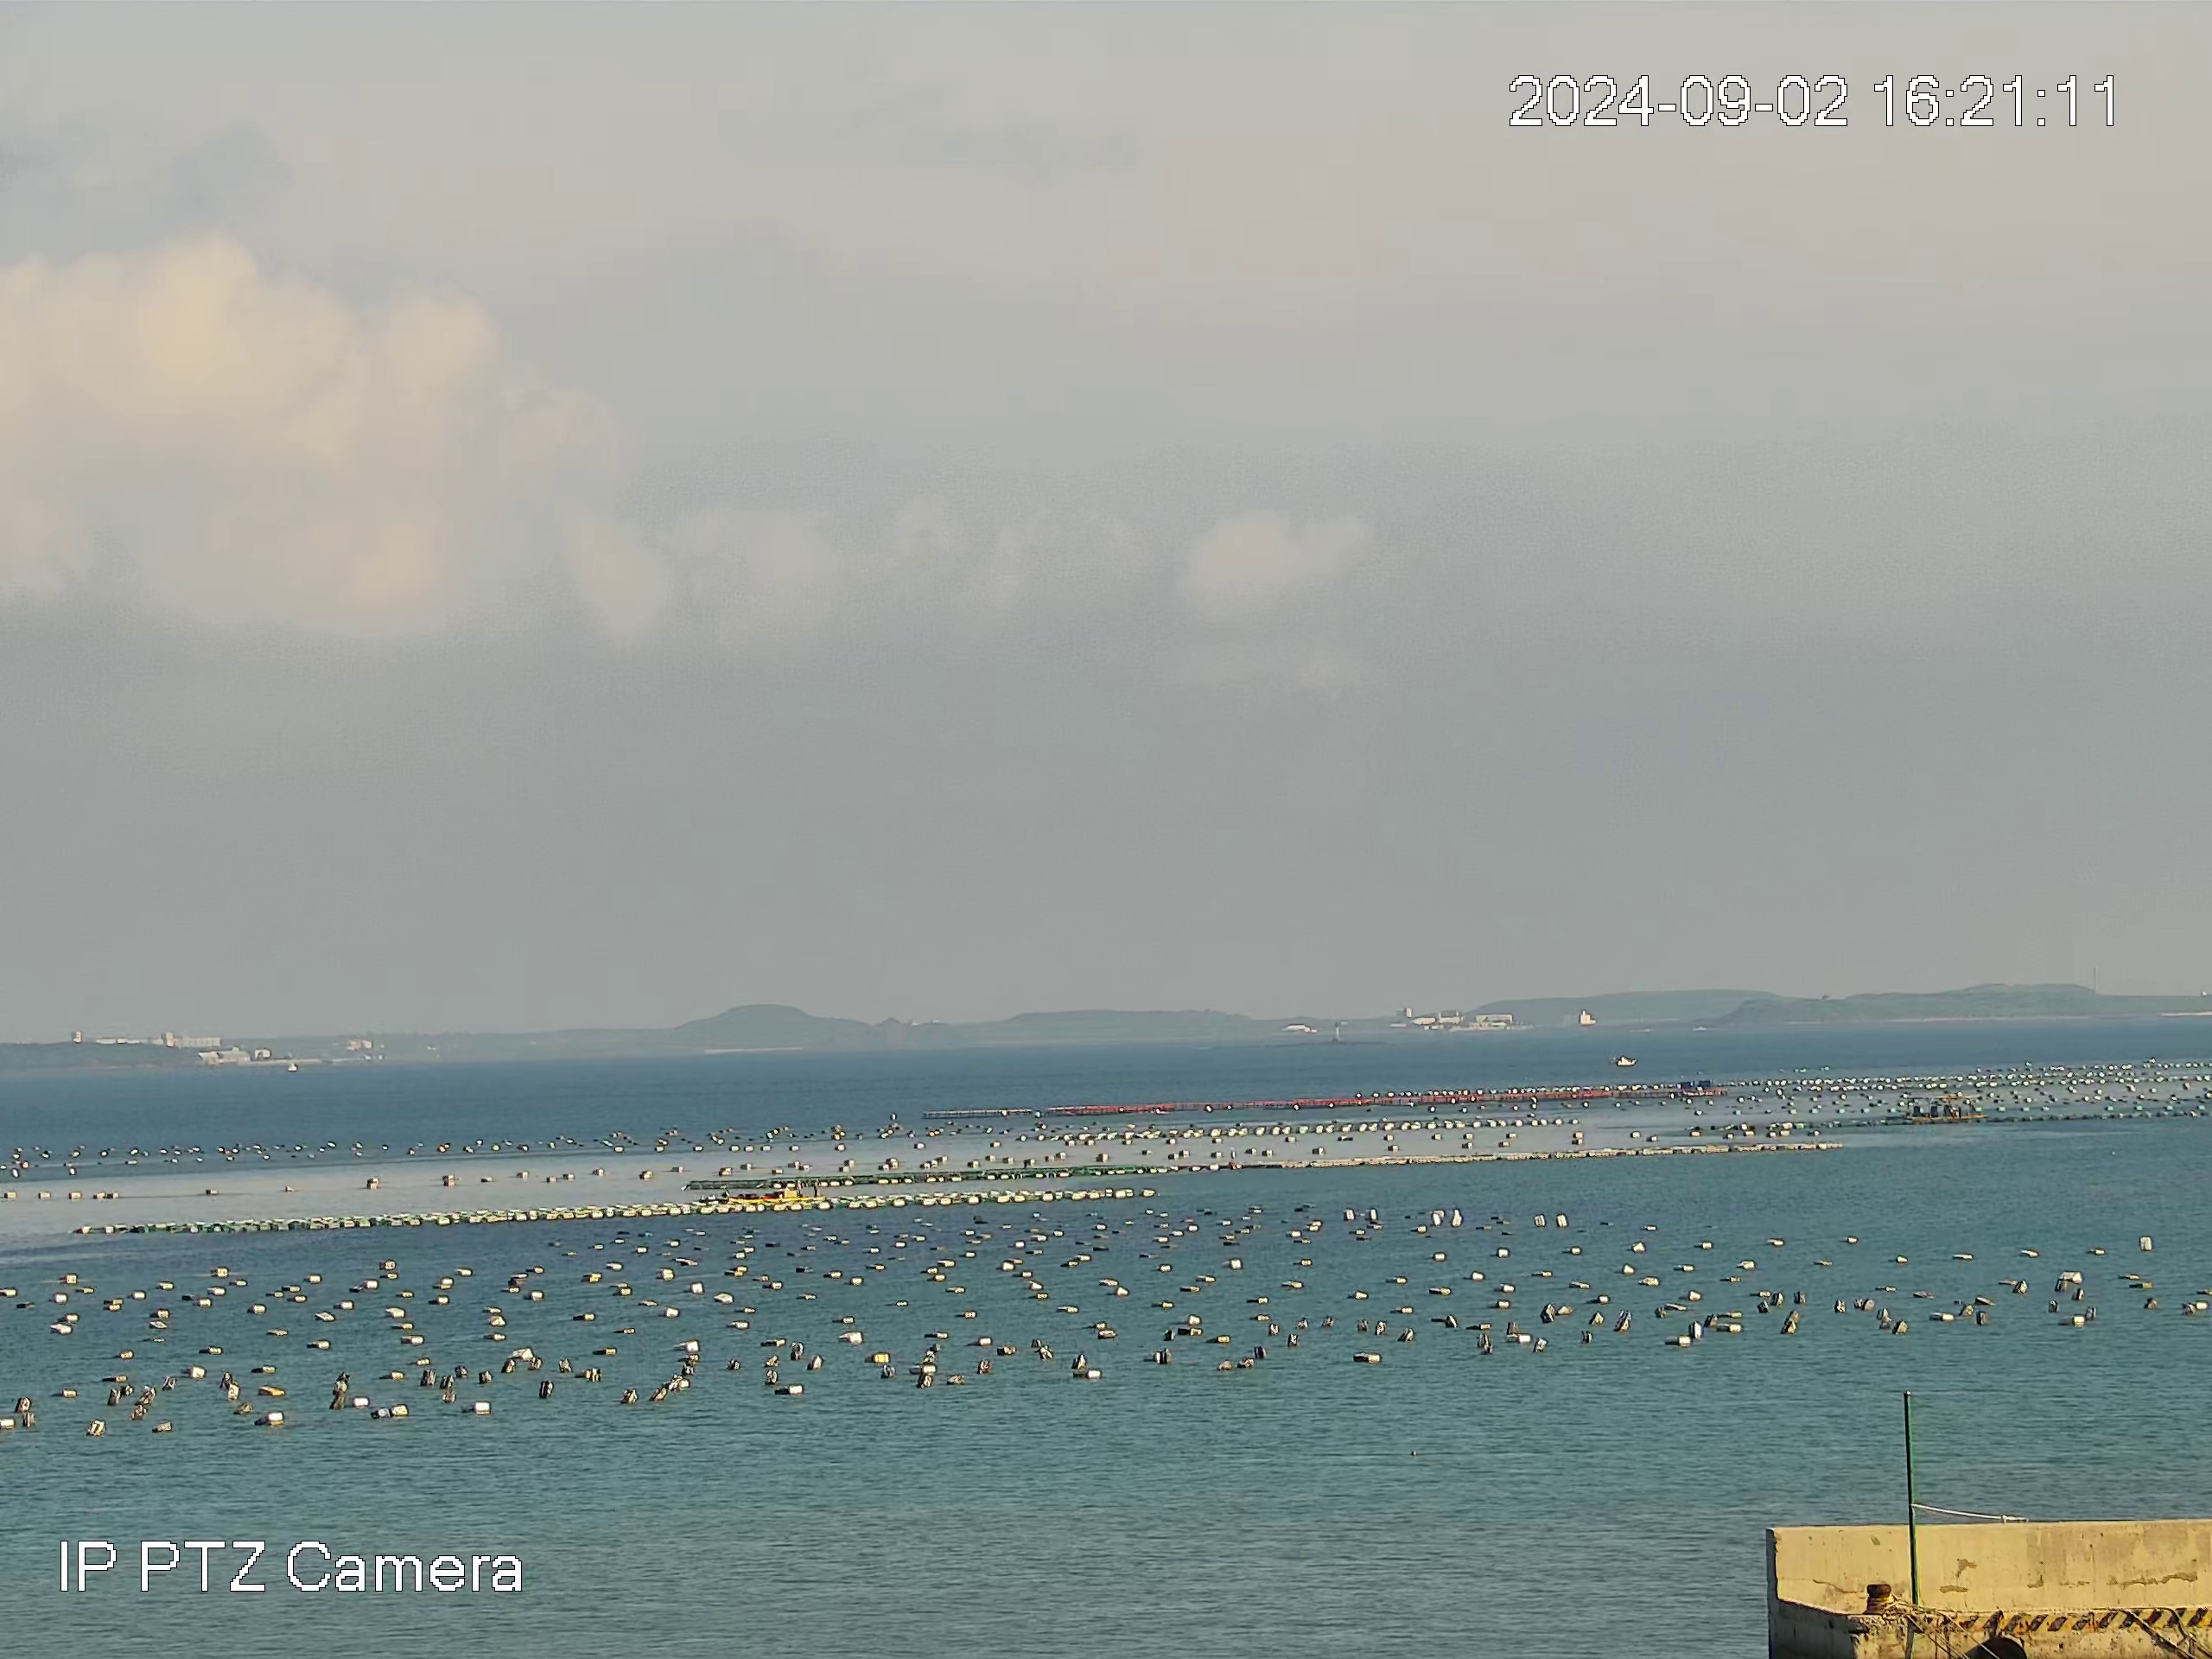boat: (1904, 1093, 1987, 1124), (726, 1181, 809, 1204), (1615, 1055, 1637, 1067)
